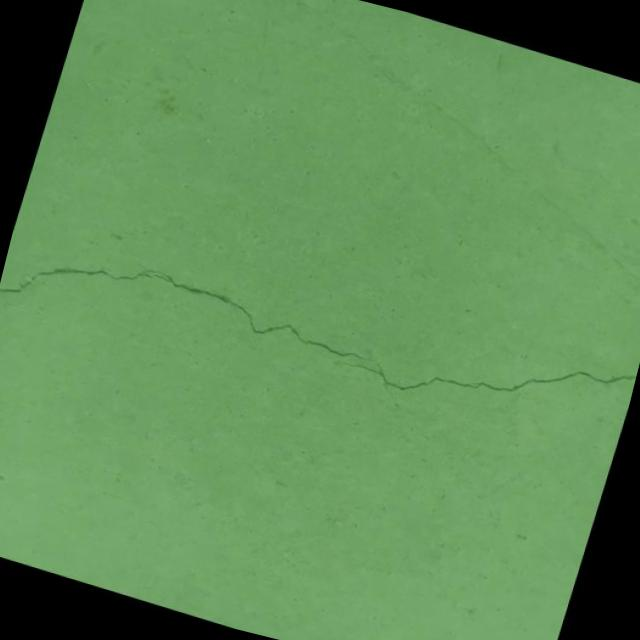crack: (0, 188, 640, 479)
